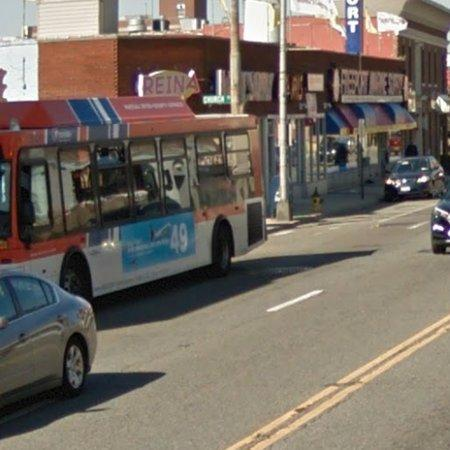buses: (0, 96, 264, 298)
